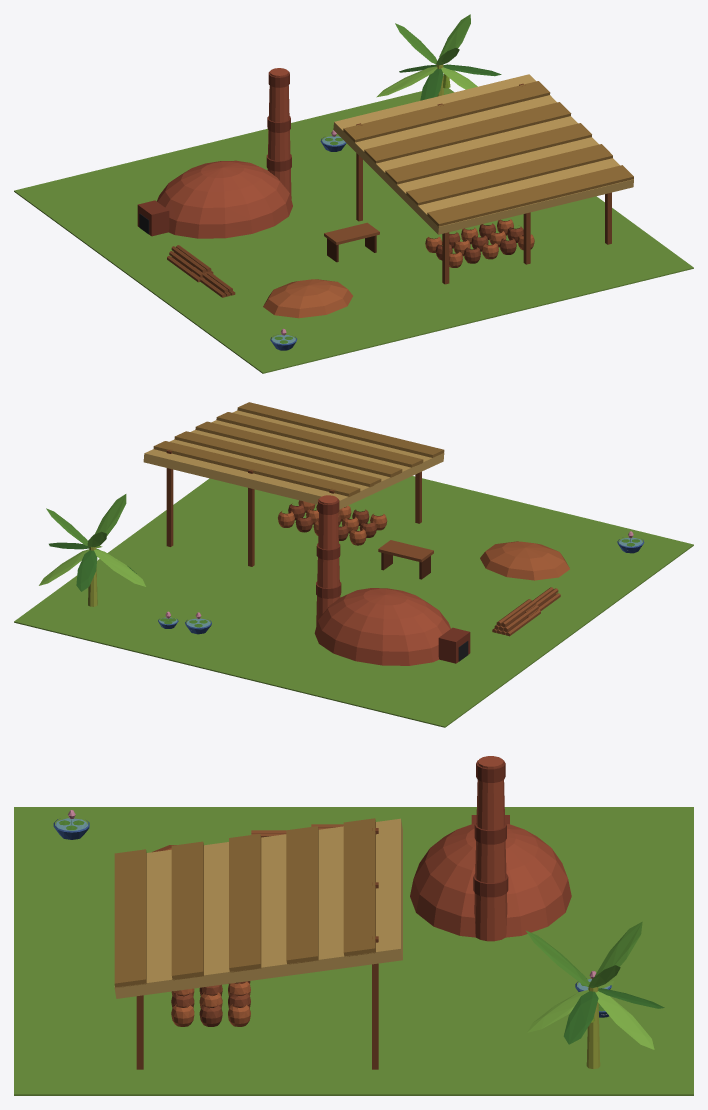
The model's file is factory_2.glb.
3 renders of one model, top to bottom at view 1: azimuth 30°, elevation 25°; view 2: azimuth 150°, elevation 25°; view 3: azimuth 270°, elevation 25°, orthographic. The views are drawn at different scales.
Visible parts, largest first — view 1: body; view 2: body; view 3: body.
Boxes of the visible parts, x1=… form: body: x1=14, y1=14, x2=693, y2=373; body: x1=14, y1=402, x2=693, y2=727; body: x1=14, y1=756, x2=693, y2=1095.
Bounding box in the file's own units: 16.31 × 4.5 × 15.9.
